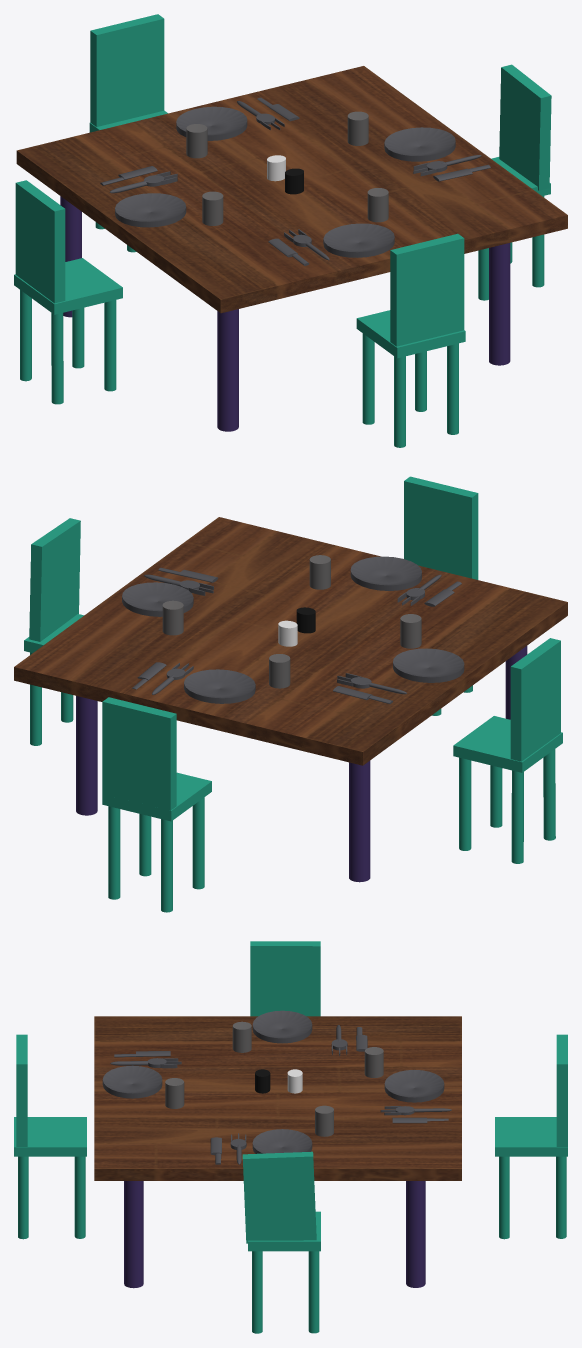
Rendered from stol.obj.
The picture shows the model from 3 angles, top to bottom: view 1: azimuth 30°, elevation 25°; view 2: azimuth 150°, elevation 25°; view 3: azimuth 270°, elevation 25°; orthographic projection. The views are drawn at different scales.
Visible parts, largest first — view 1: table.001_table, dossier_chaise5, dossier_chaise4, dossier_chaise, dossier_chaise3, chaise3, patte_t_1, patte_t_4, assiette, assiette3, assiette2, chaise5 (+16 smaller); view 2: table.001_table, dossier_chaise4, dossier_chaise5, dossier_chaise3, dossier_chaise, chaise3, patte_t_3, patte_t_2, assiette1, assiette, assiette3, chaise4 (+14 smaller); view 3: table.001_table, dossier_chaise, dossier_chaise3, chaise5, chaise4, patte_t_4, patte_t_2, assiette, assiette3, assiette1, dossier_chaise5, dossier_chaise4 (+12 smaller).
Part boxes in pixels (x1,y1,x2,y2): table.001_table: [16, 66, 567, 313]; dossier_chaise5: [390, 233, 464, 346]; dossier_chaise4: [90, 14, 164, 126]; dossier_chaise: [499, 64, 551, 190]; dossier_chaise3: [15, 180, 65, 303]; chaise3: [14, 258, 122, 314]; patte_t_1: [217, 309, 238, 431]; patte_t_4: [489, 243, 510, 365]; assiette: [115, 193, 186, 227]; assiette3: [323, 223, 394, 257]; assiette2: [384, 127, 455, 161]; chaise5: [356, 310, 465, 358]; table.001_table: [14, 517, 567, 765]; dossier_chaise4: [102, 697, 176, 810]; dossier_chaise5: [404, 476, 478, 579]; dossier_chaise3: [510, 638, 560, 761]; dossier_chaise: [29, 518, 80, 641]; chaise3: [453, 716, 562, 772]; patte_t_3: [349, 760, 370, 882]; patte_t_2: [76, 696, 97, 815]; assiette1: [184, 669, 255, 703]; assiette: [393, 648, 464, 682]; assiette3: [350, 556, 421, 590]; chaise4: [102, 772, 211, 821]; table.001_table: [94, 1016, 461, 1180]; dossier_chaise: [242, 1151, 316, 1243]; dossier_chaise3: [250, 941, 320, 1016]; chaise5: [14, 1117, 86, 1156]; chaise4: [495, 1117, 567, 1156]; patte_t_4: [124, 1181, 143, 1288]; patte_t_2: [406, 1181, 425, 1287]; assiette: [252, 1010, 312, 1043]; assiette3: [102, 1065, 162, 1098]; assiette1: [384, 1070, 444, 1102]; dossier_chaise5: [16, 1034, 27, 1146]; dossier_chaise4: [556, 1034, 567, 1146].
Size of the model in its own units: 3.66 by 1.39 by 3.93.
7 materials, 1 textured.
